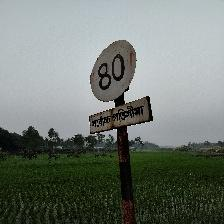Speed-limit: (88, 39, 152, 134)
